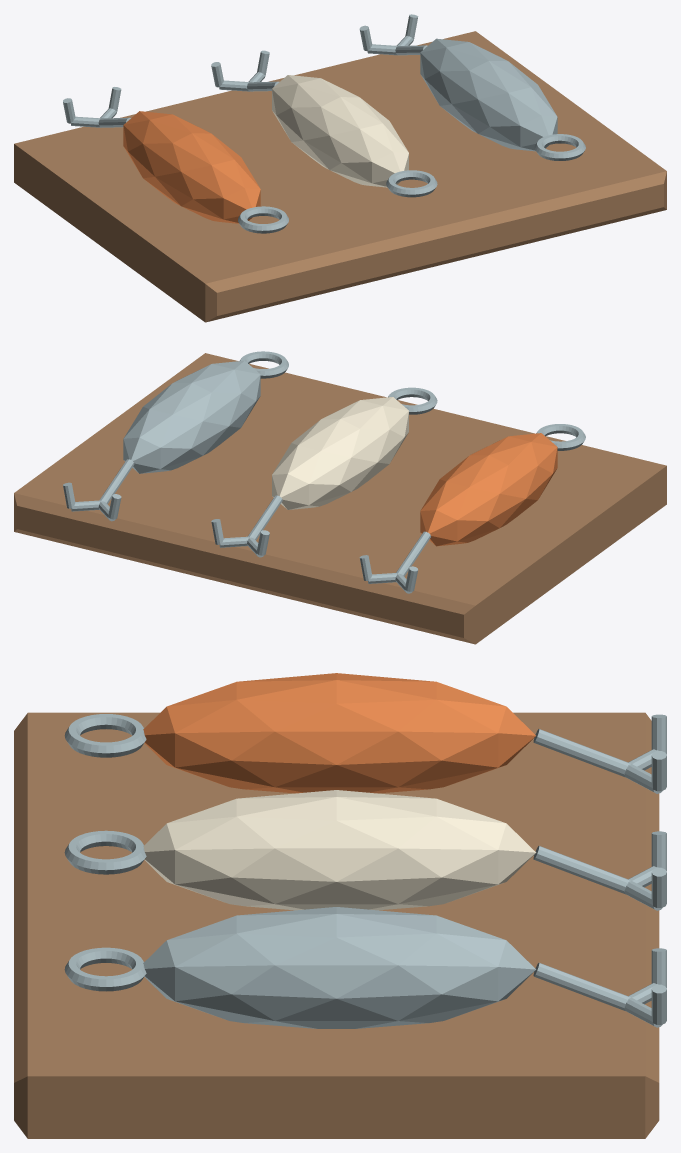
File: harbor-and-tackle-lure-display-3652c8fb__19582.glb
The picture shows the model from 3 angles, top to bottom: view 1: azimuth 30°, elevation 25°; view 2: azimuth 150°, elevation 25°; view 3: azimuth 270°, elevation 25°; orthographic projection. The views are drawn at different scales.
Parts seen in each view (by area): view 1: cedar, metal, orange, ivory; view 2: cedar, metal, orange, ivory; view 3: cedar, metal, orange, ivory.
Part boxes in pixels (bbox=[...]): cedar: bbox=[14, 31, 666, 322]; metal: bbox=[63, 14, 585, 233]; orange: bbox=[123, 111, 260, 223]; ivory: bbox=[272, 75, 408, 187]; cedar: bbox=[14, 353, 666, 644]; metal: bbox=[63, 351, 585, 593]; orange: bbox=[420, 433, 557, 546]; ivory: bbox=[272, 397, 408, 509]; cedar: bbox=[14, 712, 659, 1138]; metal: bbox=[64, 714, 666, 1028]; orange: bbox=[143, 673, 535, 793]; ivory: bbox=[143, 790, 536, 910].
Bounding box in the file's own units: 0.56 × 0.115 × 0.425.
